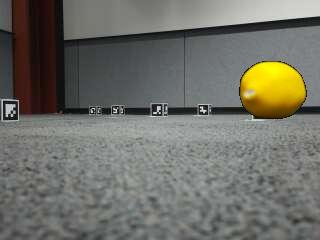lemon: (240, 61, 306, 118)
